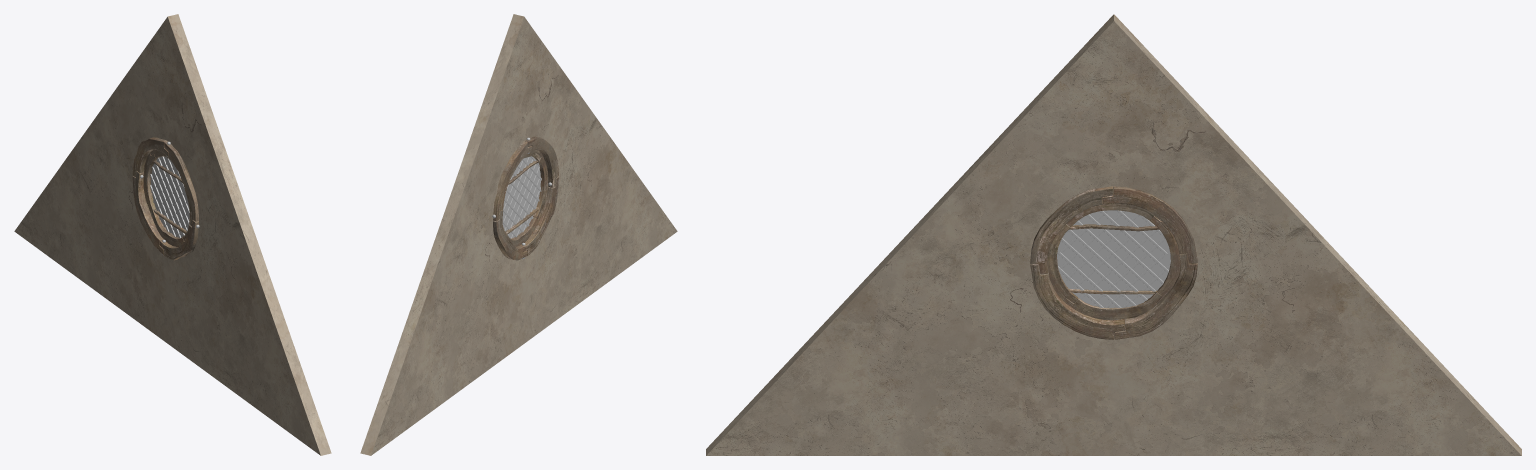
The model's file is SM_Wall_Top_02.fbx.
3 renders of one model, left to right at view 1: azimuth 30°, elevation 25°; view 2: azimuth 150°, elevation 25°; view 3: azimuth 270°, elevation 25°, orthographic. The views are drawn at different scales.
Visible parts, largest first — view 1: SM_Wall_Top_02_LOD0; view 2: SM_Wall_Top_02_LOD0; view 3: SM_Wall_Top_02_LOD0.
Boxes of the visible parts, x1,y1,x2,y2 form: SM_Wall_Top_02_LOD0: (14,14,331,455); SM_Wall_Top_02_LOD0: (360,14,677,455); SM_Wall_Top_02_LOD0: (706,14,1521,455).
Bounding box in the file's own units: 22.62 × 600 × 353.
